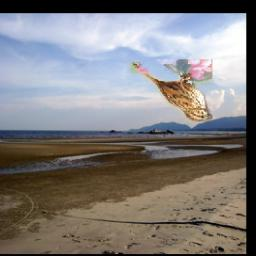Sparrow: (129, 60, 213, 123)
